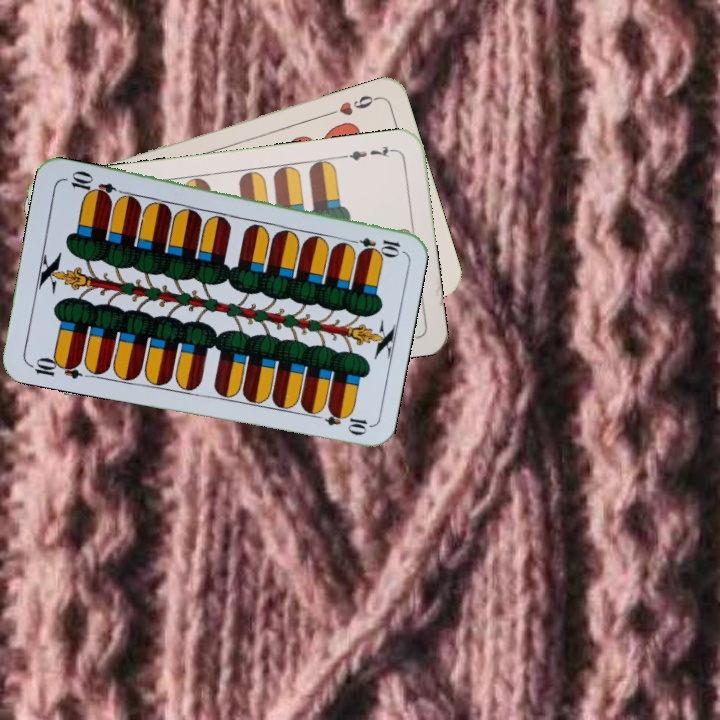E10: (25, 353, 84, 382), (343, 233, 403, 257)
E7: (339, 142, 398, 163)
H9: (324, 91, 381, 119)
